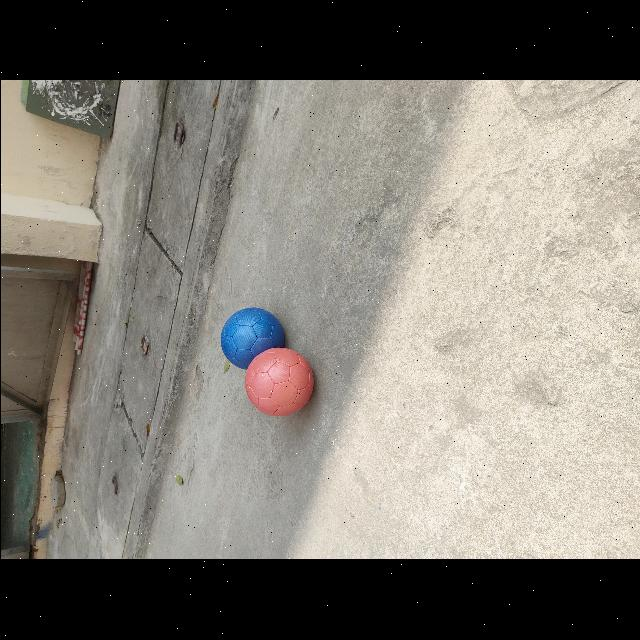B: (220, 308, 283, 370)
R: (244, 348, 312, 417)
